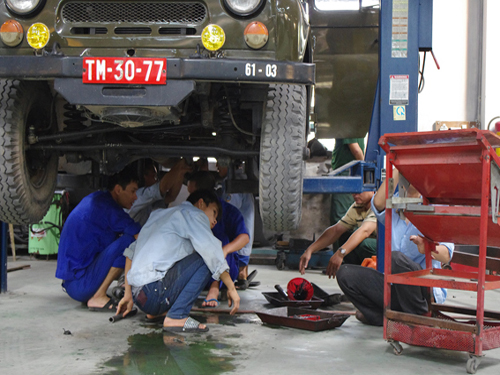plate: (80, 54, 166, 86)
